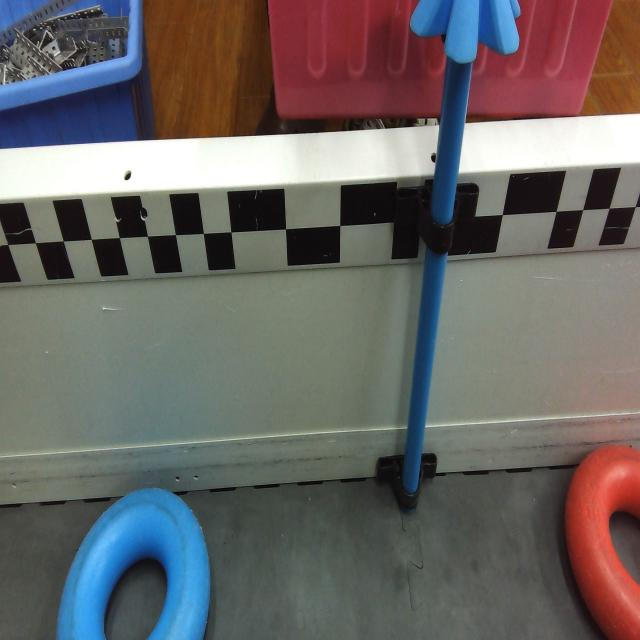Blue-Ring: (56, 484, 212, 640)
Red-Ring: (566, 444, 640, 640)
zblue-Stake-Head: (410, 0, 522, 64)
